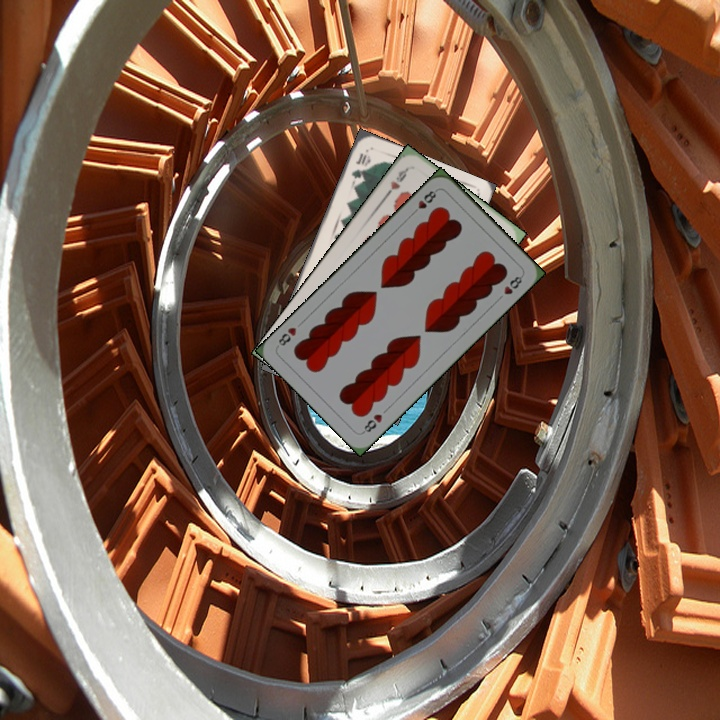G10: (347, 149, 373, 181)
H8: (408, 186, 440, 218), (358, 410, 385, 436)
H9: (382, 163, 411, 199)
